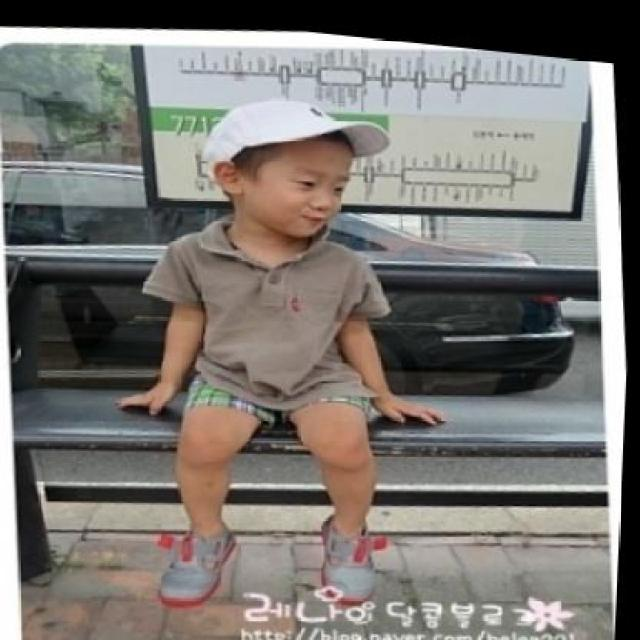hat: (195, 76, 400, 192)
